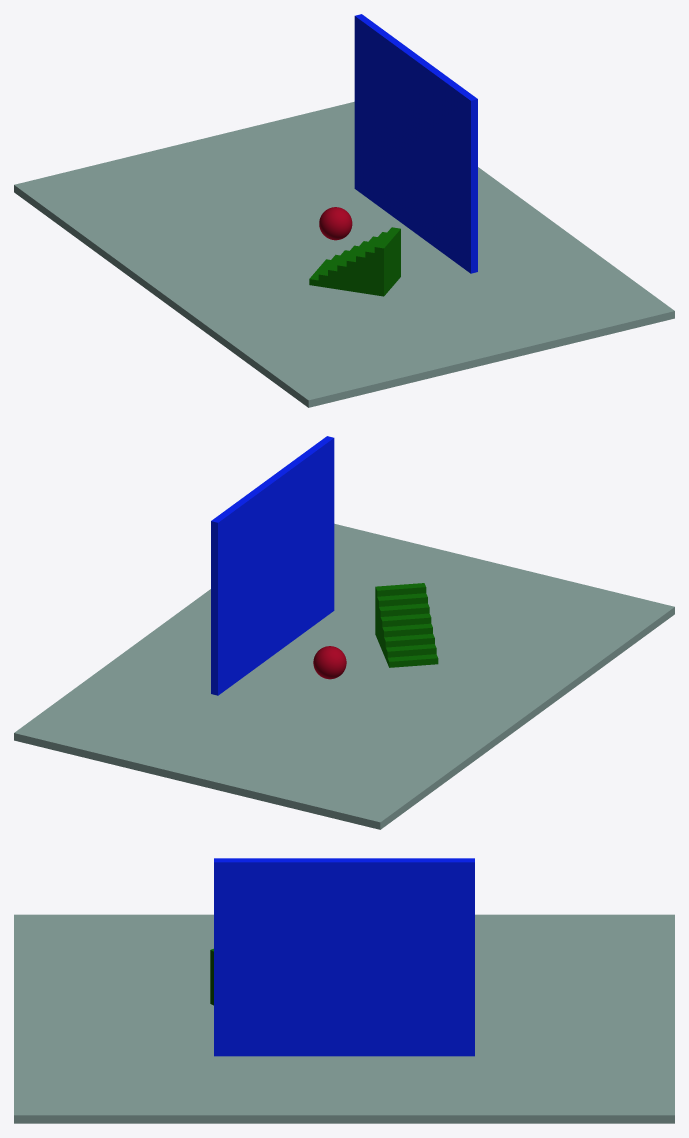
File: PointLights.gltf
3 renders of one model, top to bottom at view 1: azimuth 30°, elevation 25°; view 2: azimuth 150°, elevation 25°; view 3: azimuth 270°, elevation 25°, orthographic. The views are drawn at different scales.
Parts seen in each view (by area): view 1: Box2, Box, Stairs, Sphere; view 2: Box2, Box, Stairs, Sphere; view 3: Box2, Box.
Boxes of the visible parts, <box> form: Box2: <box>14,101,674,407</box>; Box: <box>354,14,477,273</box>; Stairs: <box>309,227,400,296</box>; Sphere: <box>319,207,352,240</box>; Box2: <box>14,523,674,829</box>; Box: <box>211,436,334,695</box>; Stairs: <box>375,583,438,667</box>; Sphere: <box>313,646,346,679</box>; Box2: <box>14,914,674,1123</box>; Box: <box>214,858,474,1056</box>.
Size of the model in its own units: 12.75 by 6 by 17.75.
